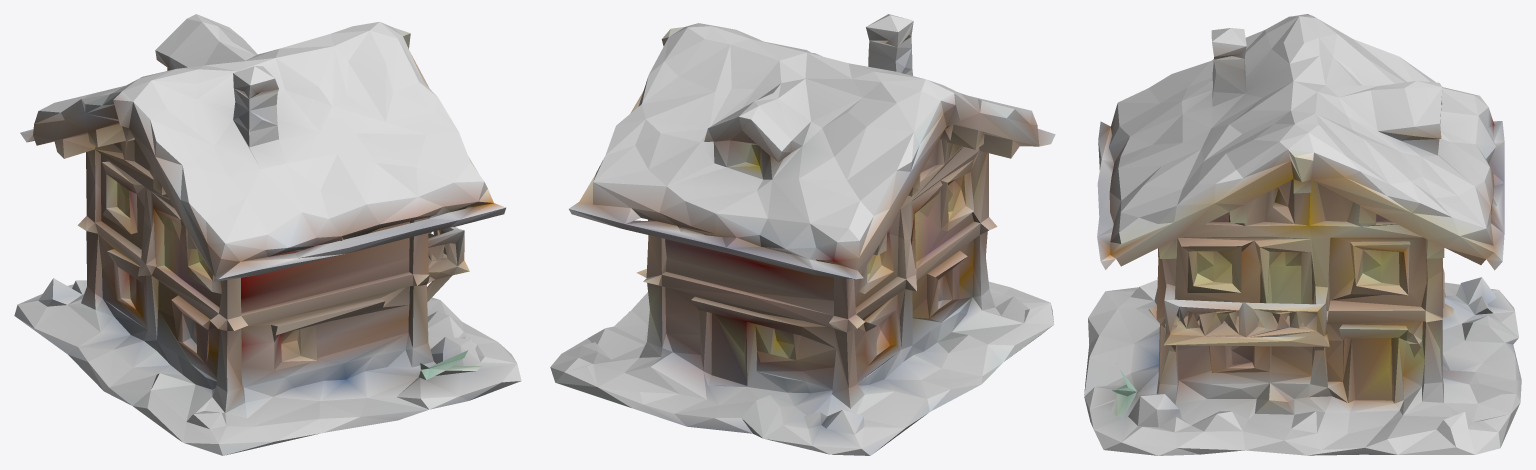
File: gen-hut.glb
3 renders of one model, left to right at view 1: azimuth 30°, elevation 25°; view 2: azimuth 150°, elevation 25°; view 3: azimuth 270°, elevation 25°, orthographic.
Visible parts, largest first — view 1: model; view 2: model; view 3: model.
Part boxes in pixels (x1=…): model: x1=14, y1=14, x2=521, y2=455; model: x1=550, y1=14, x2=1055, y2=455; model: x1=1084, y1=14, x2=1521, y2=455.
Bounding box in the file's own units: 6.69 × 6 × 7.34.
